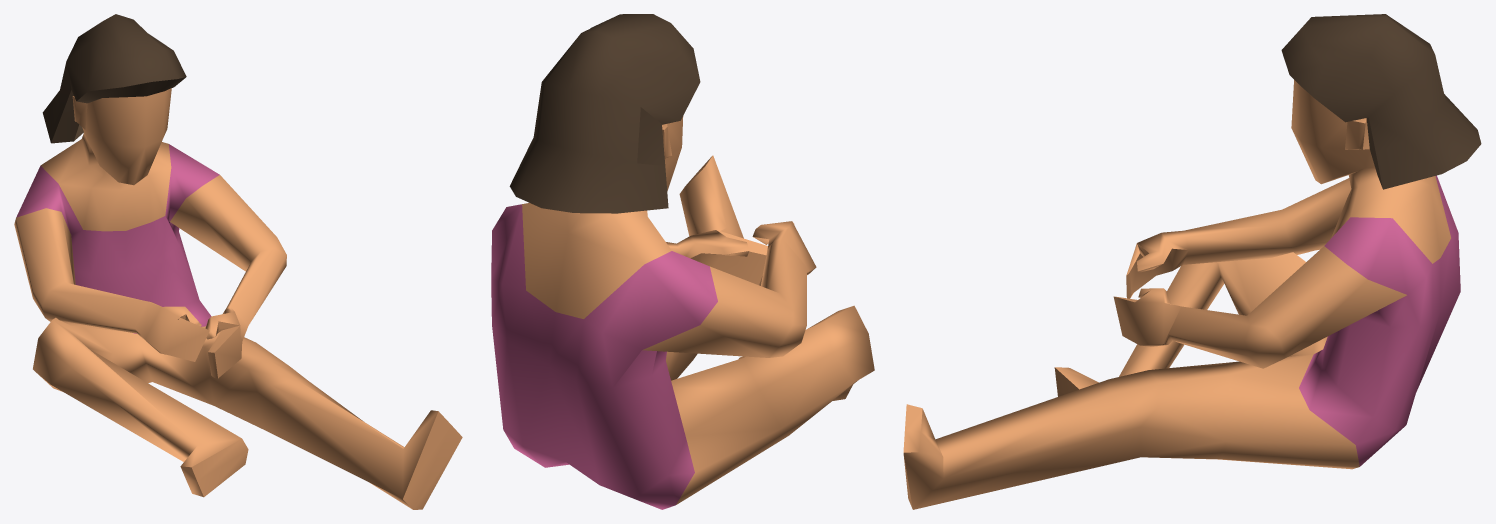
The model's file is girl-beach-sit.fbx.
3 views of the same model, side by side, from view 1: azimuth 30°, elevation 25°; view 2: azimuth 150°, elevation 25°; view 3: azimuth 270°, elevation 25° (orthographic). The views are drawn at different scales.
Visible parts, largest first — view 1: girl-beach_Rig2; view 2: girl-beach_Rig2; view 3: girl-beach_Rig2.
Part boxes in pixels (<box>): girl-beach_Rig2: <box>14,14,462,509</box>; girl-beach_Rig2: <box>491,14,874,509</box>; girl-beach_Rig2: <box>903,14,1481,509</box>.
Size of the model in its own units: 46.11 by 58.46 by 70.62.
